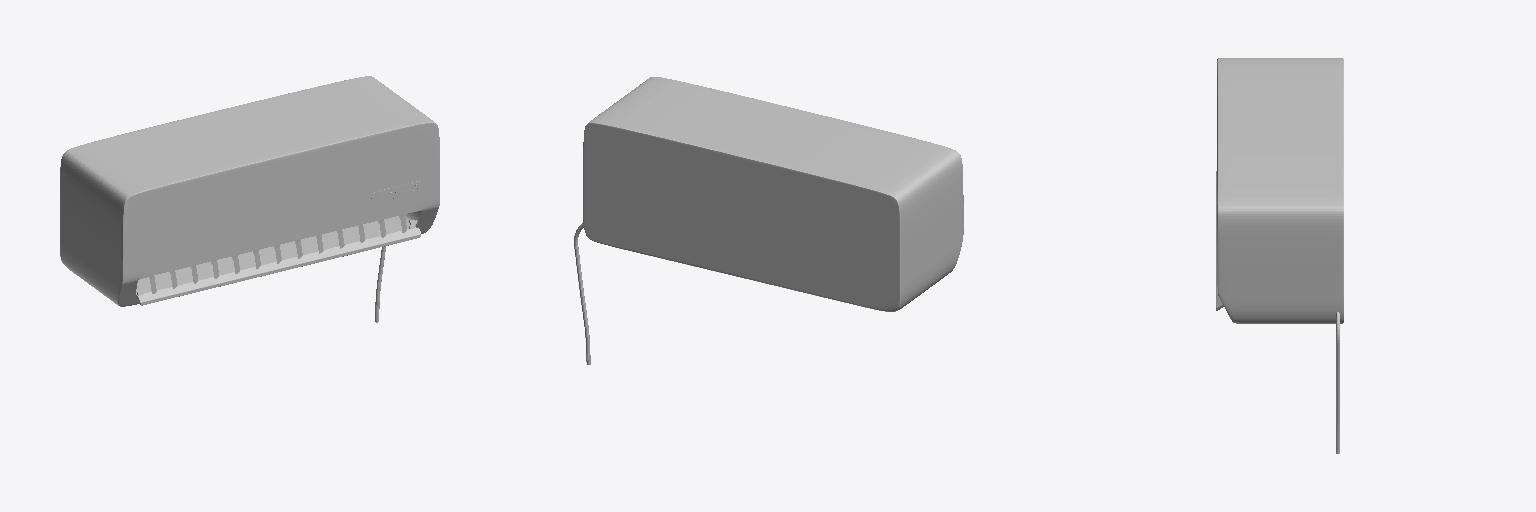
File: ACC.obj
3 renders of one model, left to right at view 1: azimuth 30°, elevation 25°; view 2: azimuth 150°, elevation 25°; view 3: azimuth 270°, elevation 25°, orthographic.
Parts seen in each view (by area): view 1: Box001; view 2: Box001, Line004; view 3: Box001, Line004.
Part boxes in pixels (bbox=[...]): Box001: bbox=[60, 76, 439, 306]; Box001: bbox=[583, 77, 963, 311]; Line004: bbox=[574, 223, 590, 364]; Box001: bbox=[1216, 58, 1343, 323]; Line004: bbox=[1336, 312, 1339, 453].
Bounding box in the file's own units: 90.04 × 64.75 × 30.32.